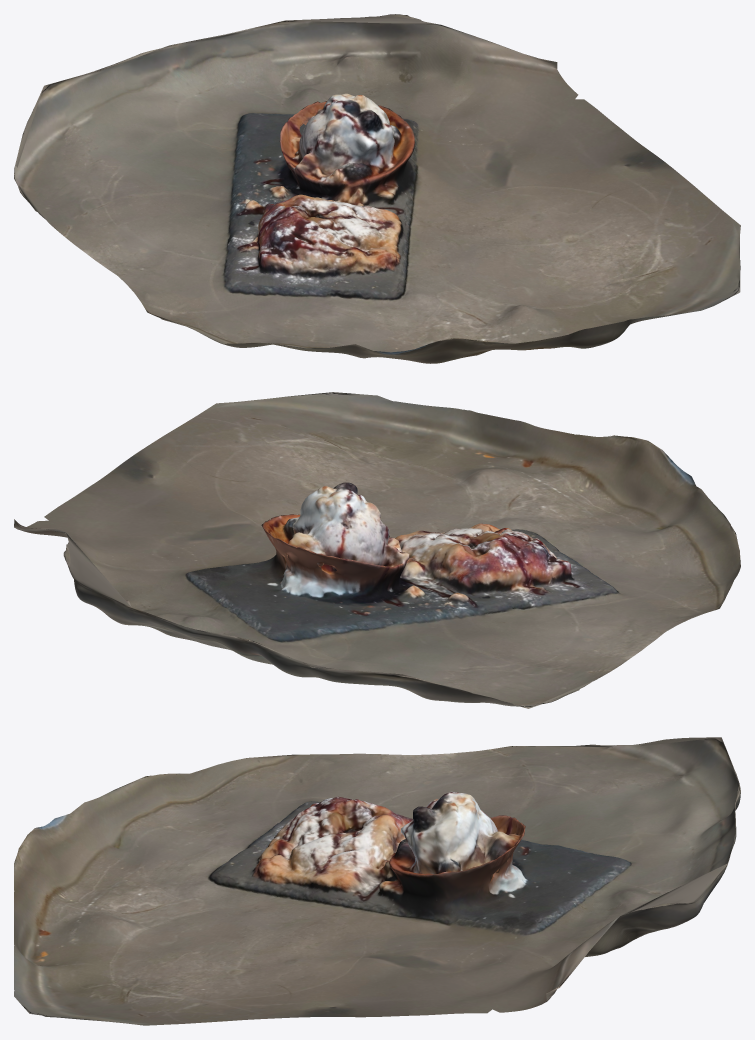
Rendered from strudel.glb.
The picture shows the model from 3 angles, top to bottom: view 1: azimuth 30°, elevation 25°; view 2: azimuth 150°, elevation 25°; view 3: azimuth 270°, elevation 25°; orthographic projection. The views are drawn at different scales.
Visible parts, largest first — view 1: 3DModel; view 2: 3DModel; view 3: 3DModel.
Part boxes in pixels (x1,y1,x2,y2): 3DModel: (14, 14, 740, 363); 3DModel: (14, 392, 740, 708); 3DModel: (14, 737, 740, 1025).
Bounding box in the file's own units: 1.27 × 0.2808 × 1.39.
1 material, 1 textured.
